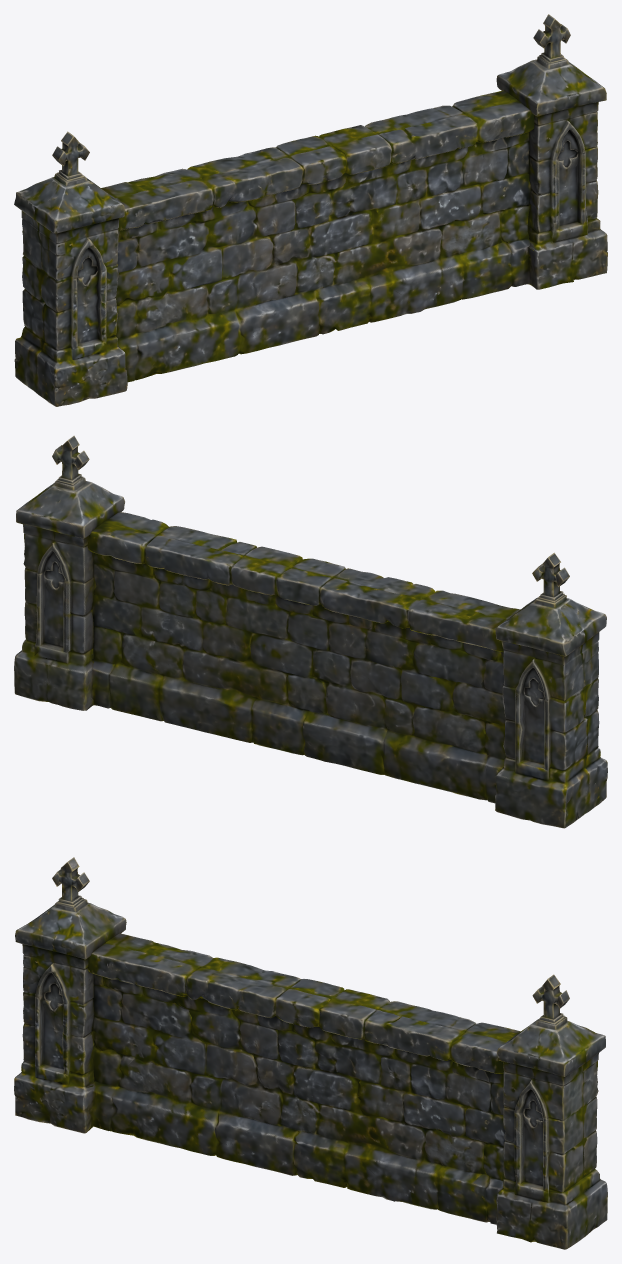
Rendered from Meshy_AI_Cemetery_Wall_Segment_20261110_texture.obj.
The picture shows the model from 3 angles, top to bottom: view 1: azimuth 30°, elevation 25°; view 2: azimuth 150°, elevation 25°; view 3: azimuth 330°, elevation 25°; orthographic projection.
Parts seen in each view (by area): view 1: Meshy_AI_Cemetery_Wall_Segment_20261110_texture; view 2: Meshy_AI_Cemetery_Wall_Segment_20261110_texture; view 3: Meshy_AI_Cemetery_Wall_Segment_20261110_texture.
Part boxes in pixels (box(x1,y1,x2,y2)): Meshy_AI_Cemetery_Wall_Segment_20261110_texture: box(14, 14, 607, 406); Meshy_AI_Cemetery_Wall_Segment_20261110_texture: box(14, 435, 607, 828); Meshy_AI_Cemetery_Wall_Segment_20261110_texture: box(14, 857, 607, 1249).
Size of the model in its own units: 0.9556 by 0.415 by 0.1318.
1 material, 1 textured.
